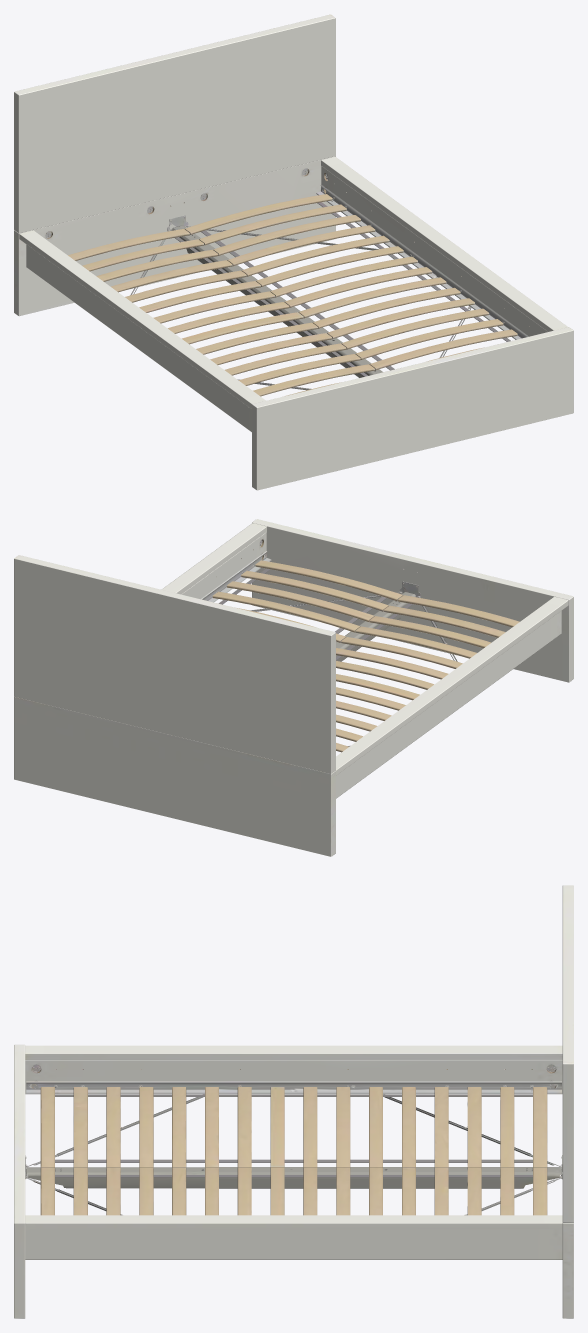
3 renders of one model, top to bottom at view 1: azimuth 30°, elevation 25°; view 2: azimuth 150°, elevation 25°; view 3: azimuth 270°, elevation 25°, orthographic. The views are drawn at different scales.
Parts seen in each view (by area): view 1: Mesh_0; view 2: Mesh_0; view 3: Mesh_0.
Boxes of the visible parts, left/top/right/bottom form: Mesh_0: left=14, top=14, right=573, bottom=490; Mesh_0: left=14, top=519, right=573, bottom=856; Mesh_0: left=14, top=885, right=573, bottom=1318.
Size of the model in its own units: 1.5 by 1 by 1.99.
Materials: 1 (1 with a texture image).
